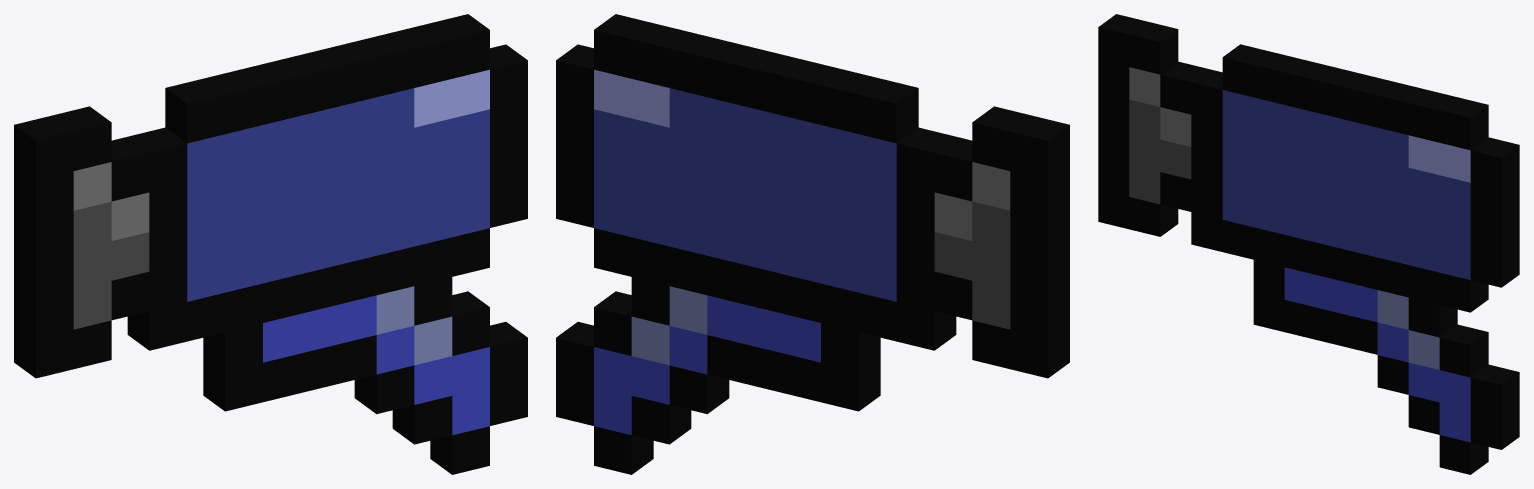
The model's file is Blue Paintball Gun.glb.
The picture shows the model from 3 angles, left to right: view 1: azimuth 30°, elevation 25°; view 2: azimuth 150°, elevation 25°; view 3: azimuth 330°, elevation 25°; orthographic projection. The views are drawn at different scales.
Parts seen in each view (by area): view 1: generated(Clone); view 2: generated(Clone); view 3: generated(Clone).
Boxes of the visible parts, x1,y1,x2,y2 form: generated(Clone): (14,14,527,474); generated(Clone): (556,14,1069,474); generated(Clone): (1098,14,1519,474).
Size of the model in its own units: 13 by 11 by 1.
Materials: 1 (1 with a texture image).
